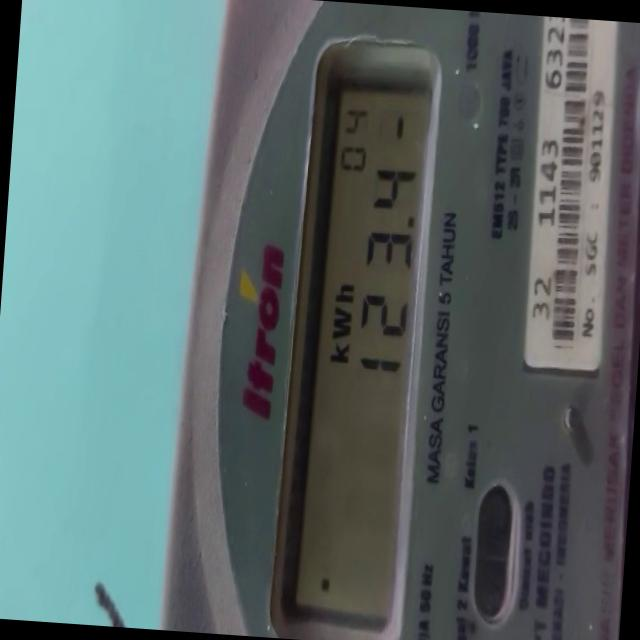LCD: (277, 44, 438, 637)
